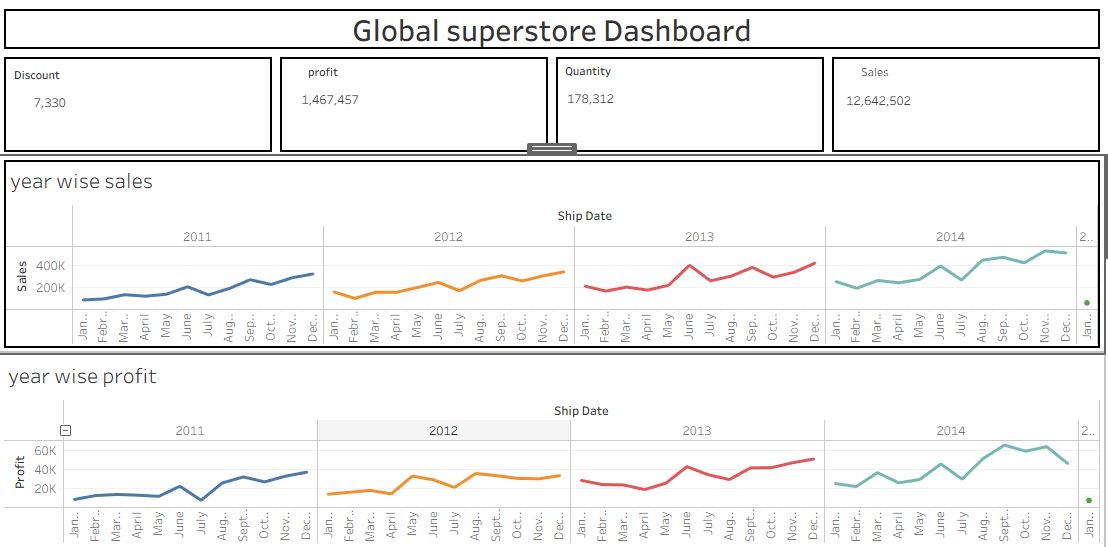

What the dashboard file says about the page in this screenshot:
{"tool":"tableau","page":{"name":"Dashboard 1","canvas":[1000,1000],"units":"permille","ordinal":0},"visuals":[{"type":"title","box":[7.1,14.3,985.7,85.7]},{"type":"worksheet","title":"discount","mark":"Automatic","box":[7.1,100,246.4,184]},{"type":"worksheet","title":"profit","mark":"Automatic","box":[253.6,100,246.4,184]},{"type":"worksheet","title":"quantity","mark":"Automatic","box":[500,100,246.4,184]},{"type":"worksheet","title":"sales","mark":"Automatic","box":[746.4,100,246.4,184]},{"type":"worksheet","title":"year wise sales","mark":"Automatic","rows":["Sales"],"cols":["Ship Date","Ship Date"],"box":[7.1,284,985.7,350.9]},{"type":"worksheet","title":"year wise profit","mark":"Automatic","rows":["Profit"],"cols":["Ship Date","Ship Date"],"box":[7.1,634.8,985.7,350.9]}]}

Visuals, with their boxes on the dashboard's canvas, which has no fixed pixel size, in thousandths of its width and height (x1, y1, x2, y2). These are canvas units, not pixel positions in the 1108x547 screenshot, which may show the page scaled, cropped or inside an application window:
title: locate(7, 14, 993, 100)
"discount" worksheet: locate(7, 100, 254, 284)
"profit" worksheet: locate(254, 100, 500, 284)
"quantity" worksheet: locate(500, 100, 746, 284)
"sales" worksheet: locate(746, 100, 993, 284)
"year wise sales" worksheet: locate(7, 284, 993, 635)
"year wise profit" worksheet: locate(7, 635, 993, 986)
